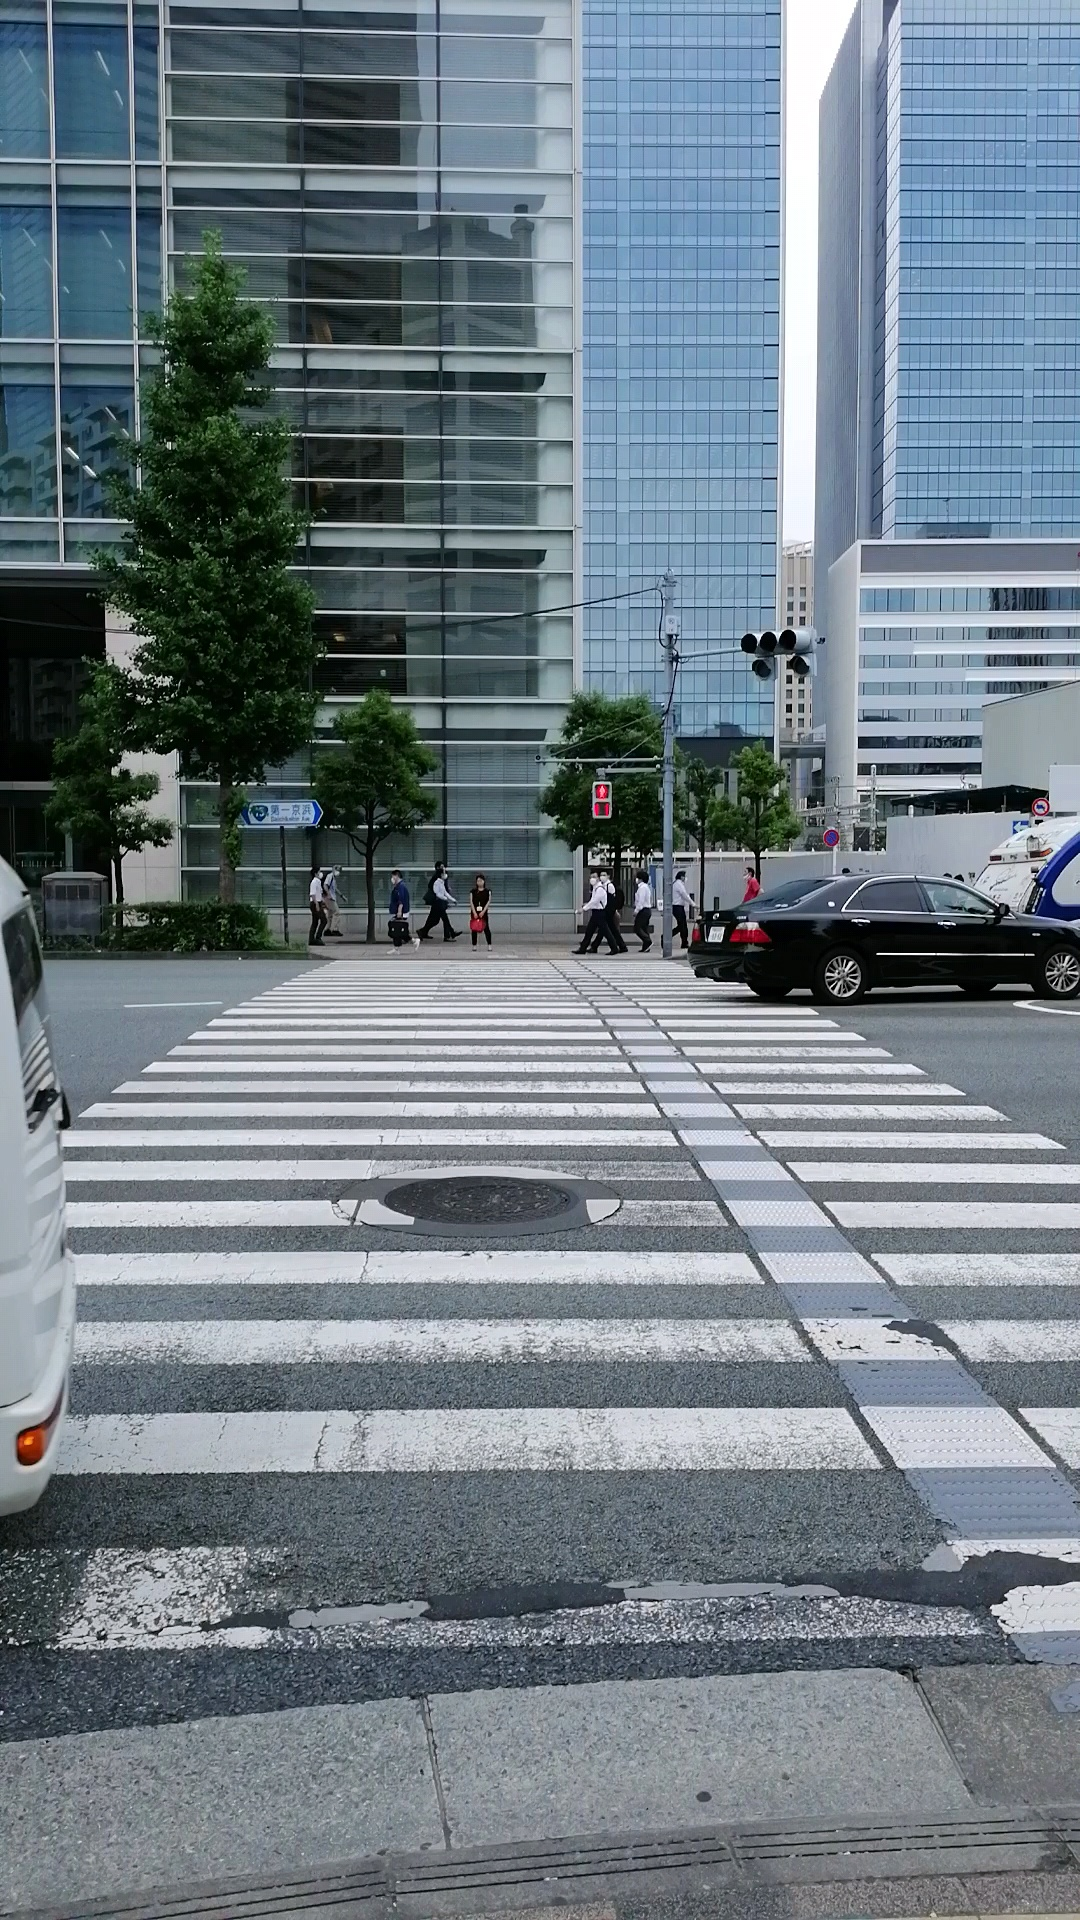red: (589, 781, 612, 820)
